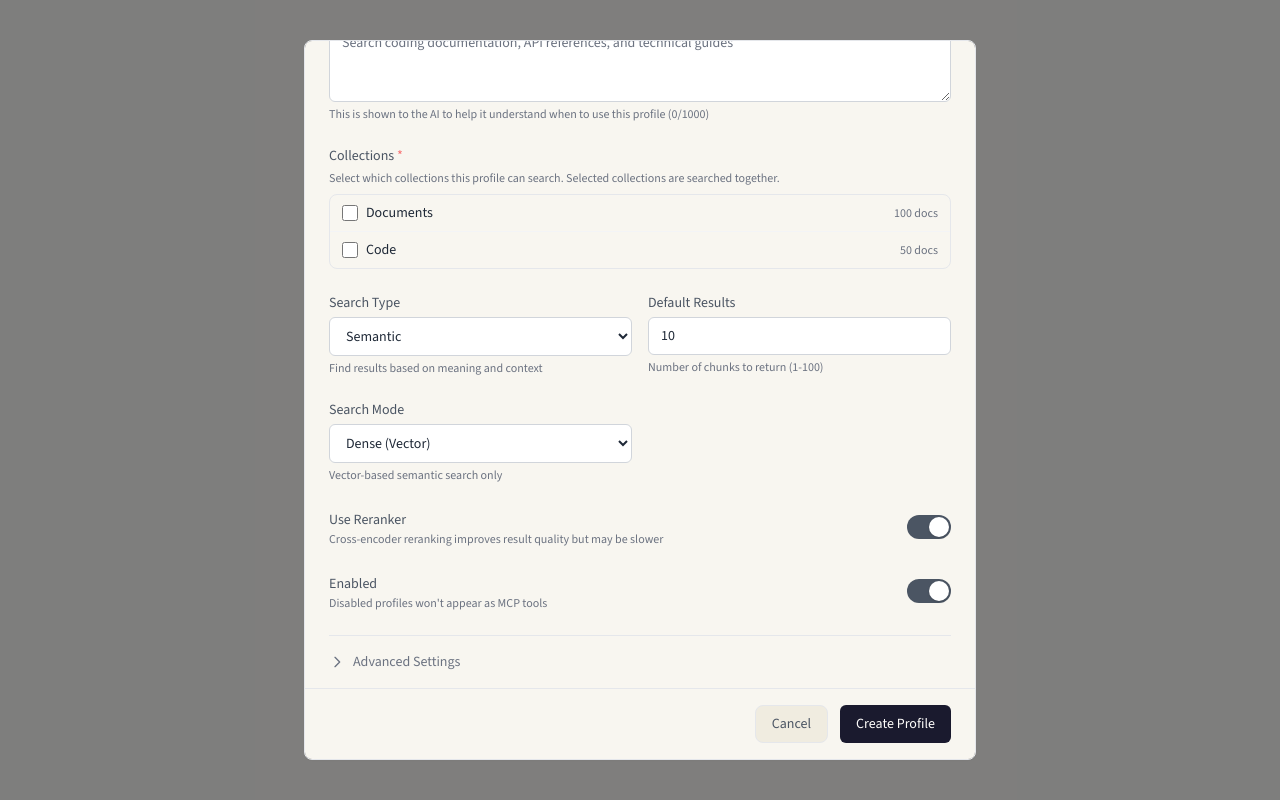
Test: ProfileFormModal › Form Validation › should clear error when field is modified
(page scrolled)
// Trigger validation
Click the button "Create Profile" at (896, 724), box [840,705,951,743]
(page scrolled)
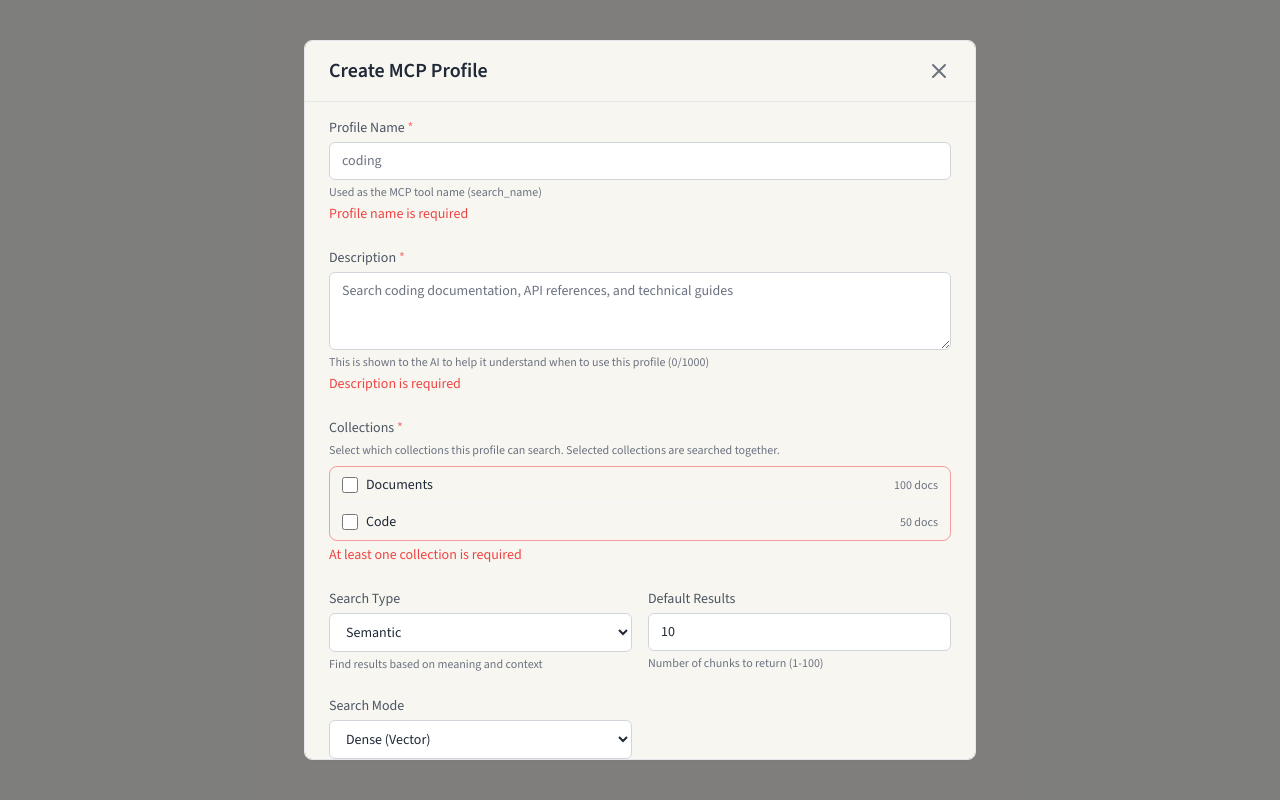
Check: the text "Profile name is required" is shown, box [329,204,468,223]
// Type in name field
Type "test" into the field labelled "Profile Name *" at (640, 161), box [329,142,951,180]
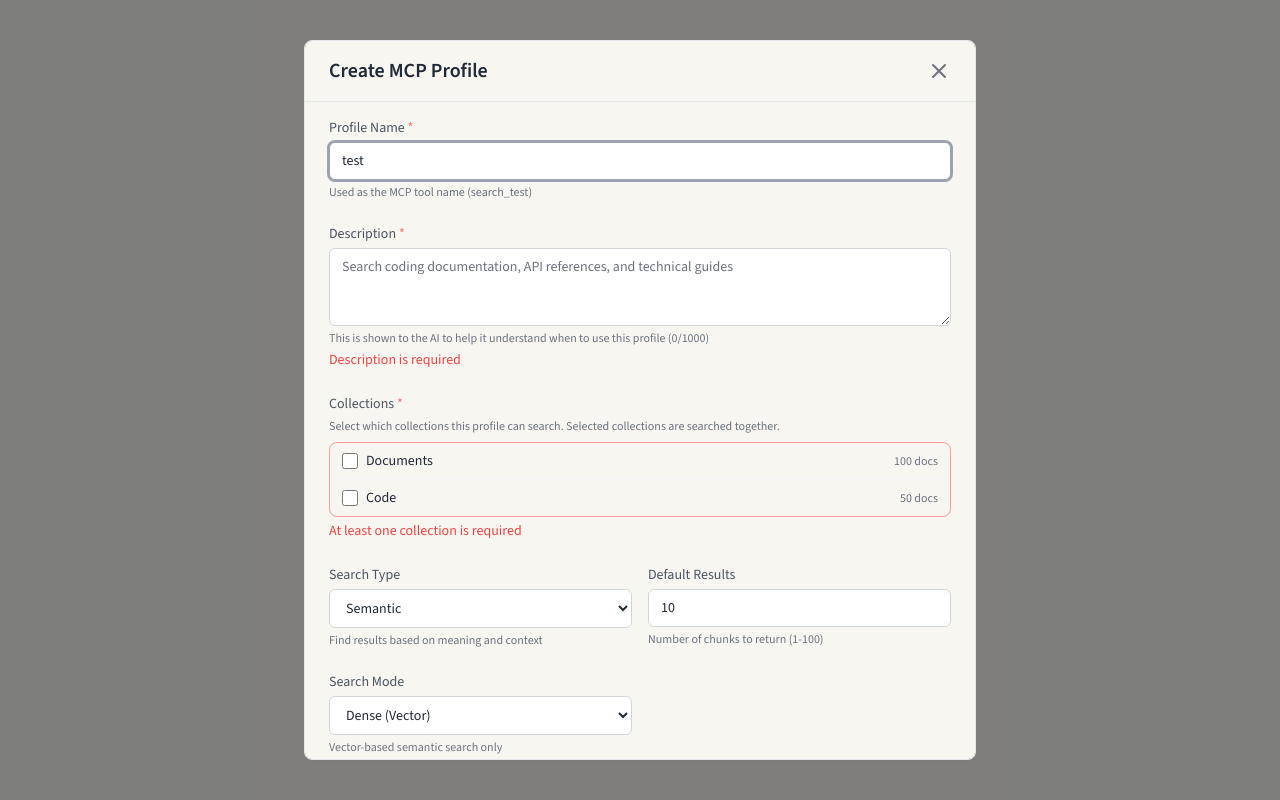
Check: the text "Profile name is required" is gone
